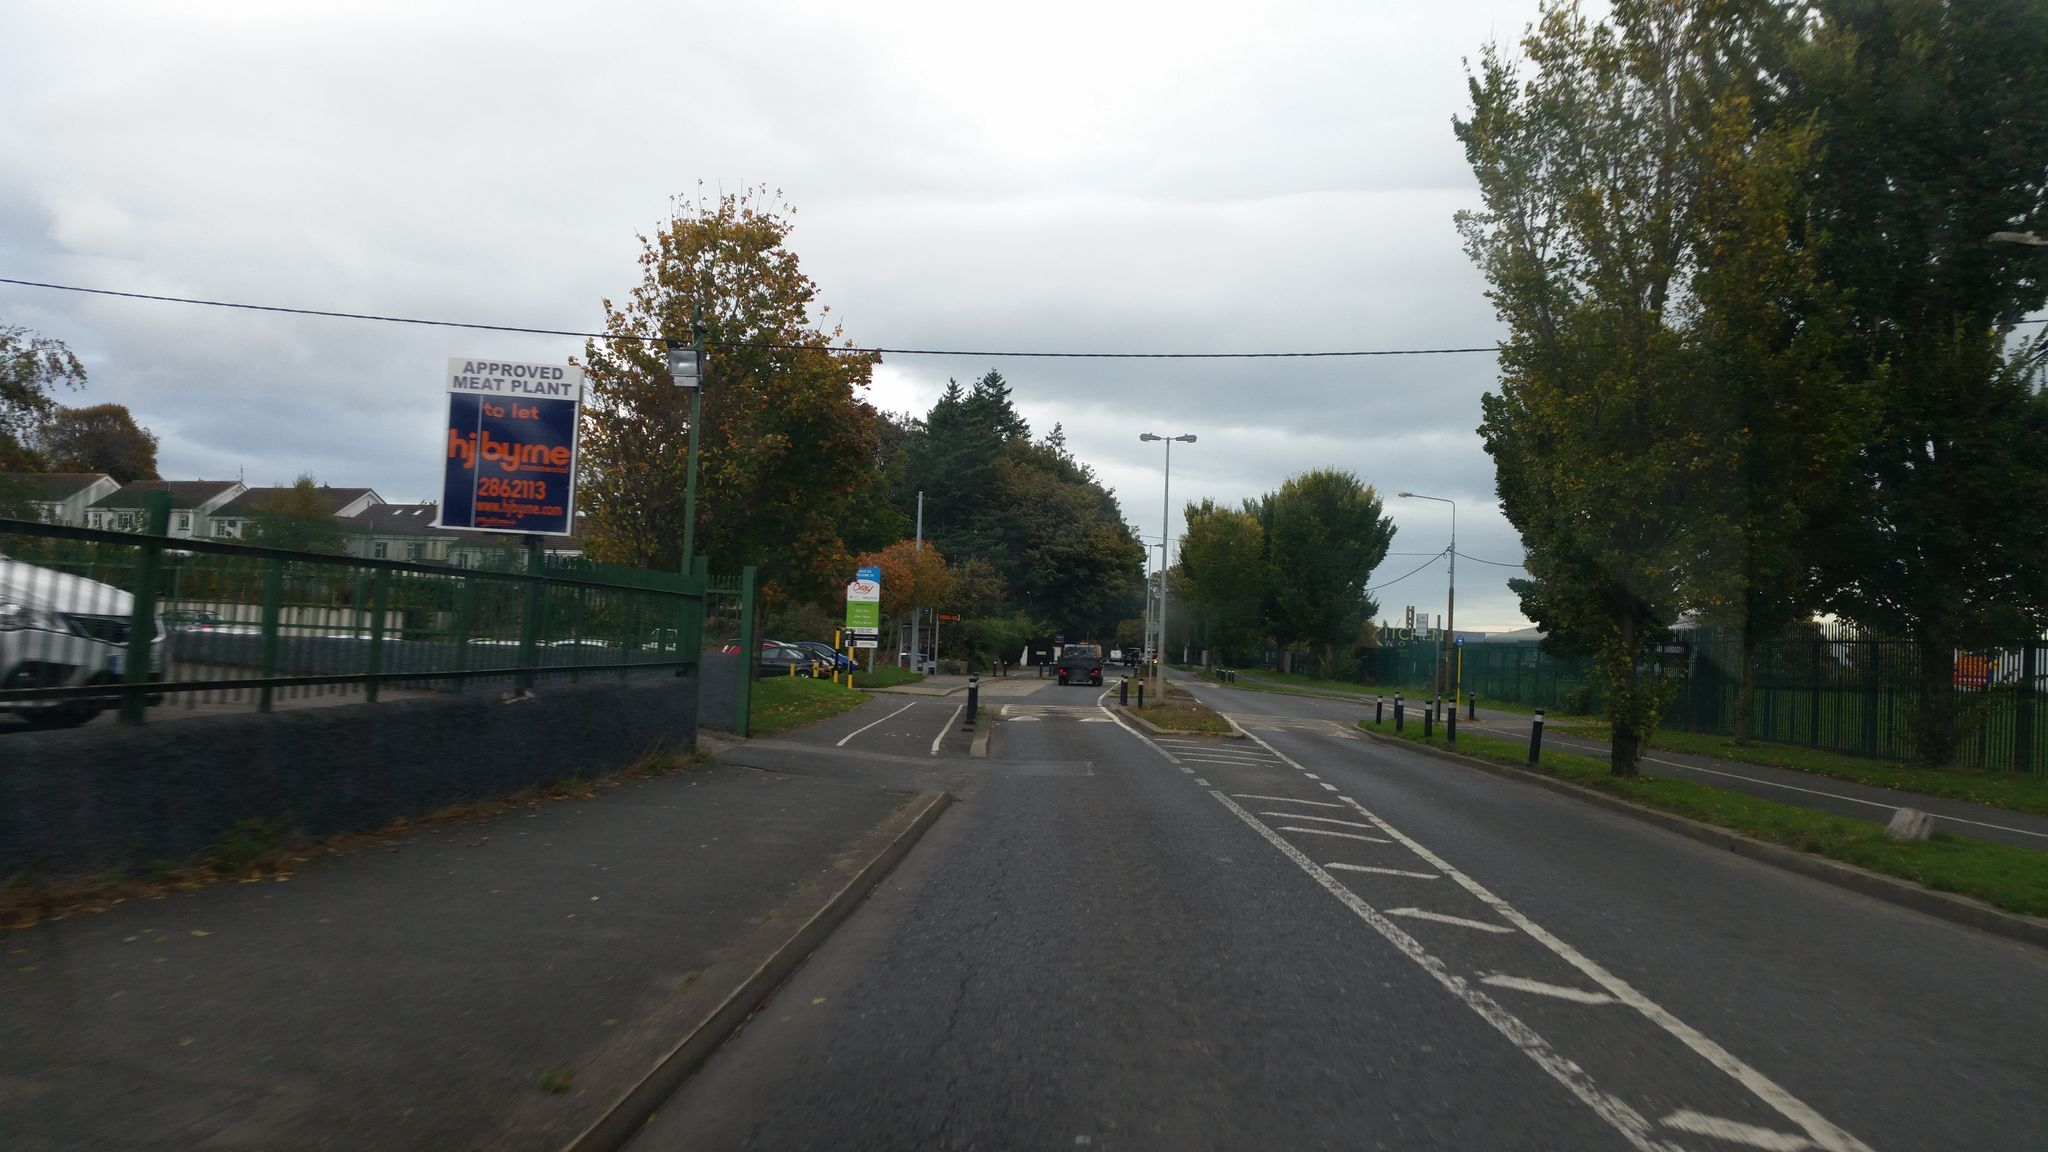property sign: (414, 308, 591, 554)
